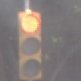Red: (14, 12, 43, 80)
